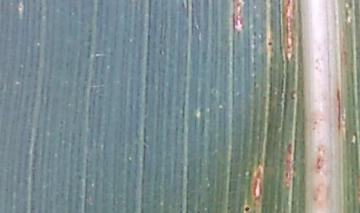tarspot: (239, 201, 255, 213), (265, 36, 276, 51)
